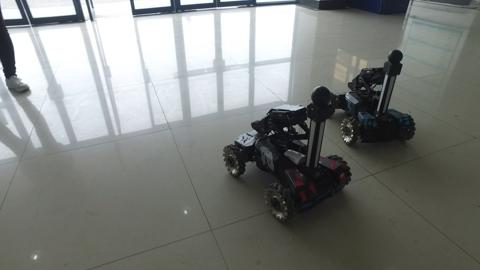chariot: (222, 82, 353, 229), (330, 46, 419, 149)
